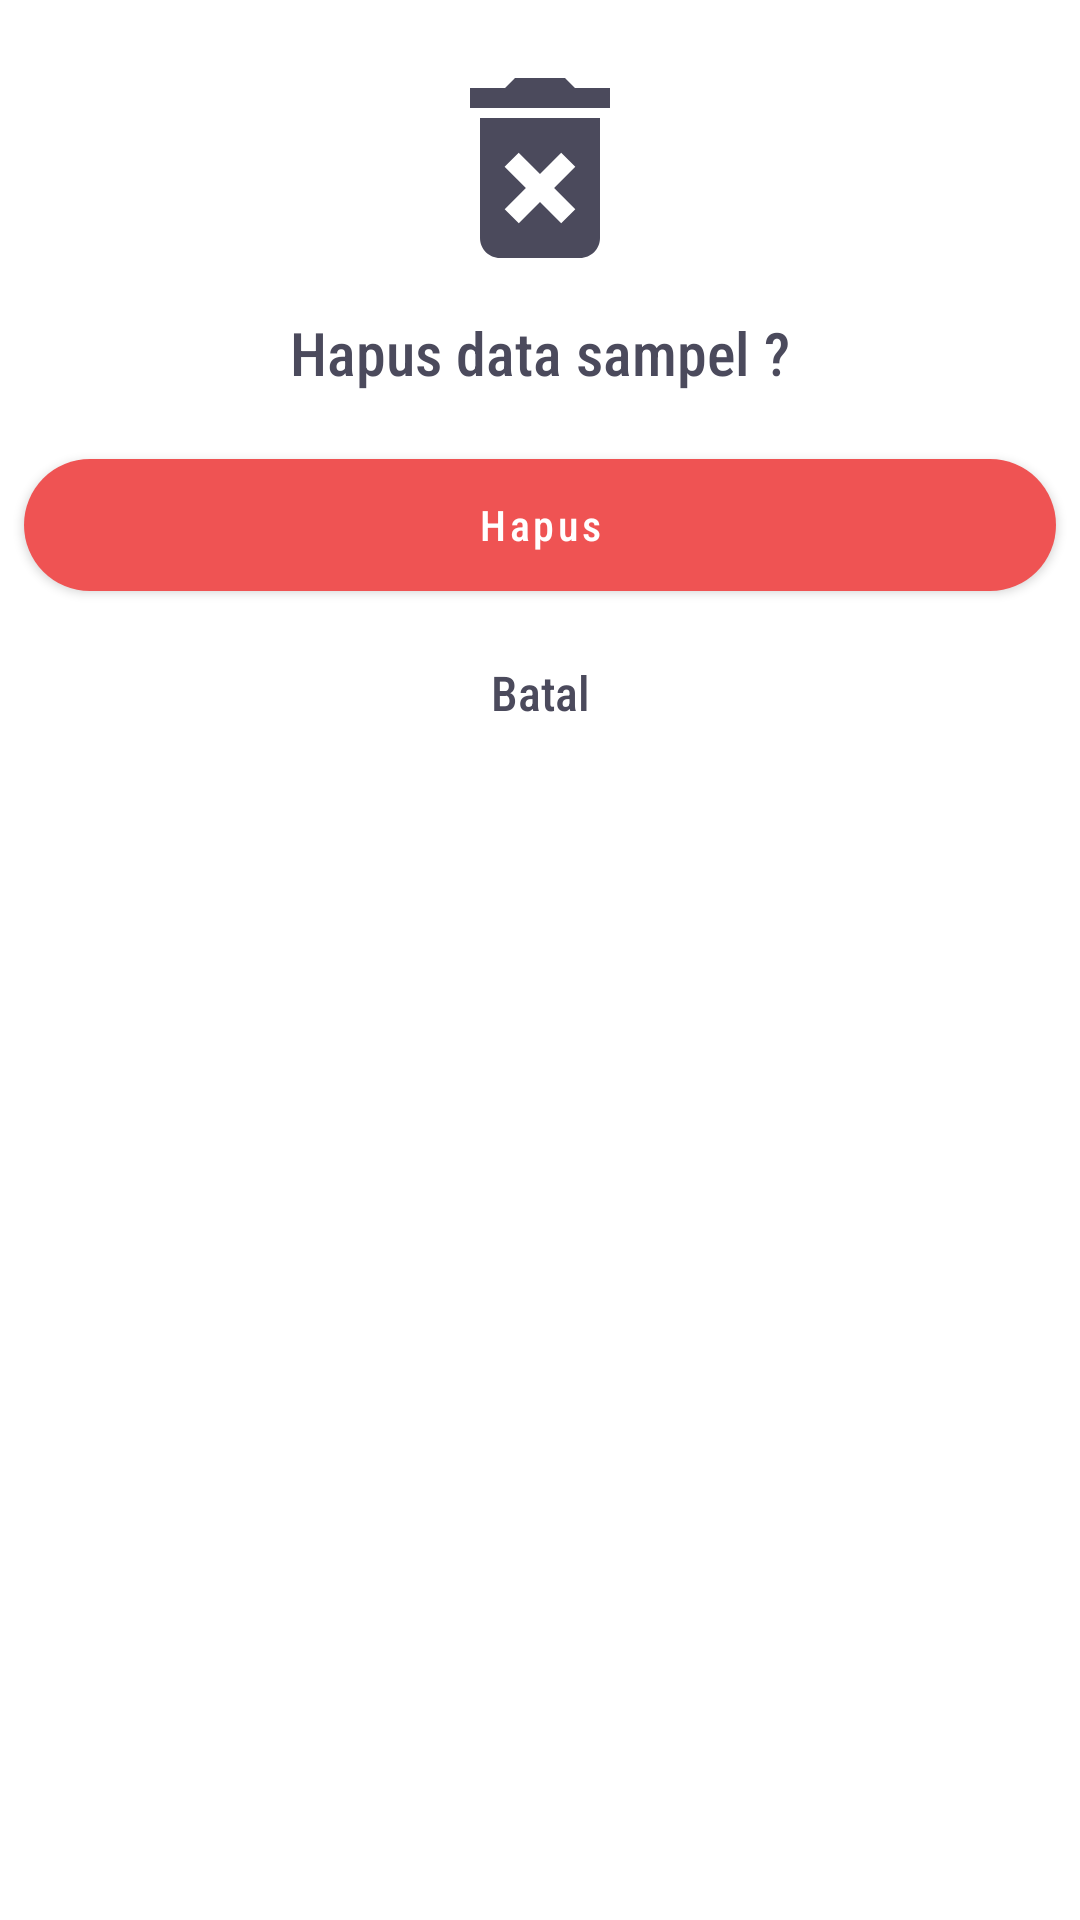

Icon bounding boxes for this 1080w x 1920h phone screenshot, format (x1, y1, x2, y2):
delete forever: (470, 78, 610, 258)
